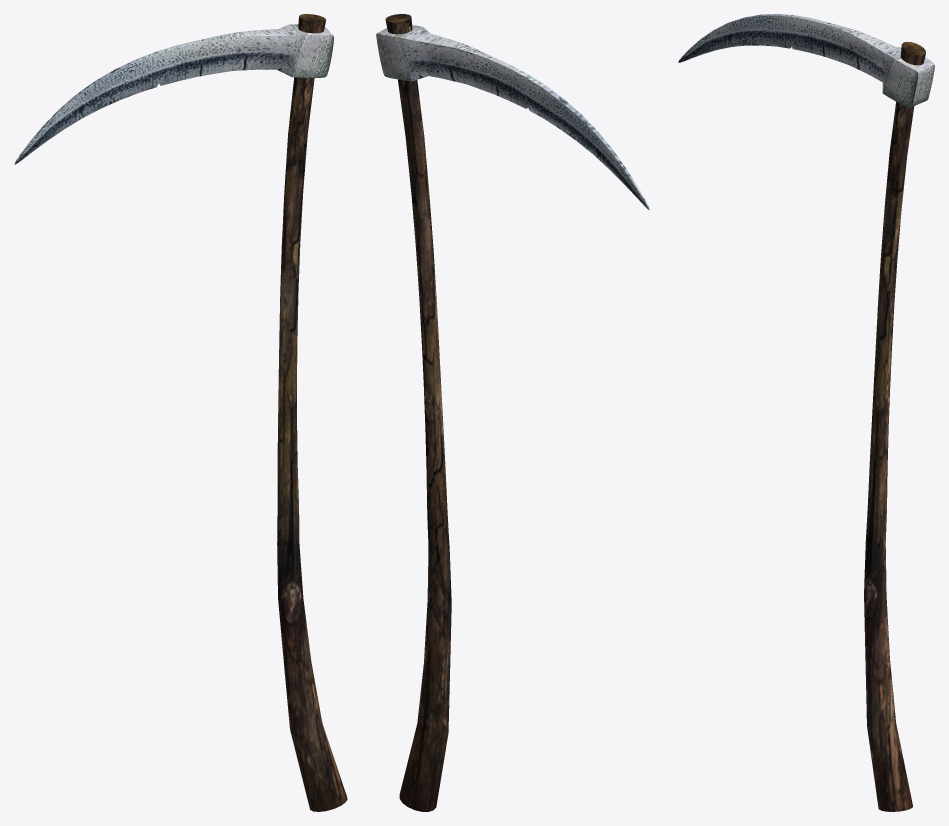
Rendered from Scythe.fbx.
3 renders of one model, left to right at view 1: azimuth 30°, elevation 25°; view 2: azimuth 150°, elevation 25°; view 3: azimuth 330°, elevation 25°, orthographic. The views are drawn at different scales.
Visible parts, largest first — view 1: Scythe; view 2: Scythe; view 3: Scythe.
Part boxes in pixels (x1,y1,x2,y2): Scythe: [14, 14, 347, 811]; Scythe: [376, 14, 649, 811]; Scythe: [678, 14, 934, 811].
Bounding box in the file's own units: 725 × 1872 × 228.
Materials: 3 (3 with a texture image).
